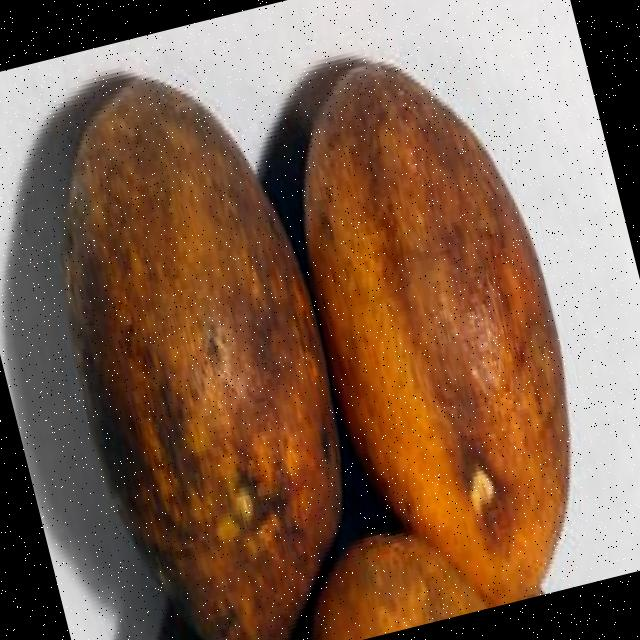overripe: (6, 50, 392, 640), (257, 26, 621, 625)
